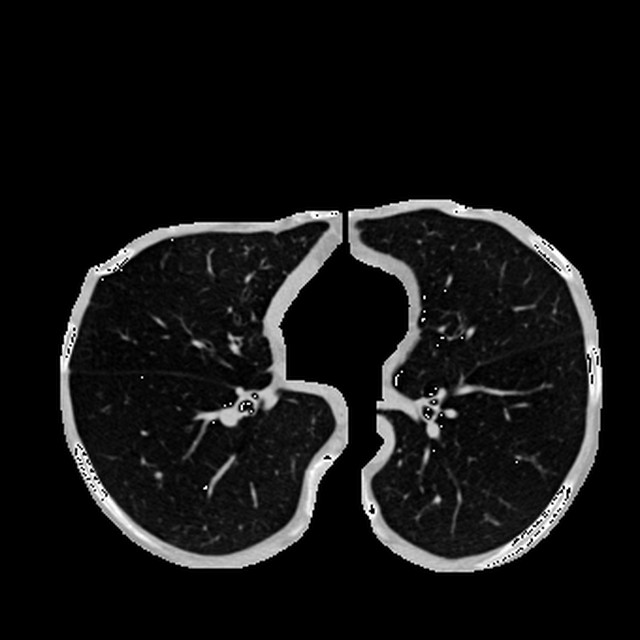PN: (154, 471, 162, 478)
